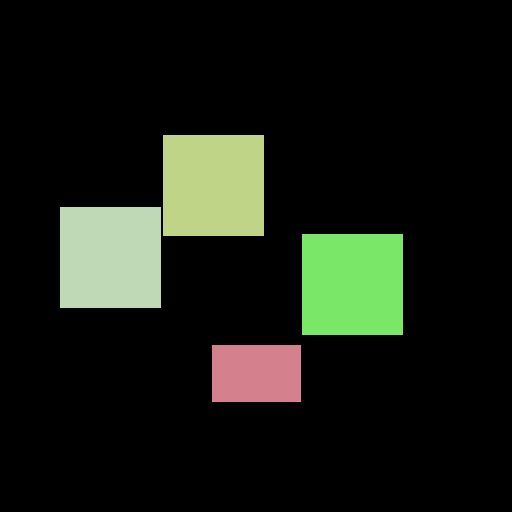rectangle: (212, 345, 300, 401)
square: (302, 234, 402, 334), (60, 207, 160, 307), (163, 135, 263, 235)
